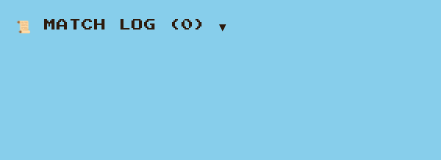
Scenario: MatchHistory Component › displays empty message when expanded with no matches
The width and height of the screenshot is (441, 160).
Click the button "📜 MATCH LOG (0) ▼" at x=121, y=25, box 16,16 -> 227,34
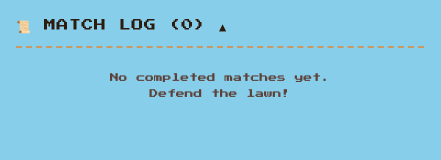
Expected: the text "No completed matches yet.Defend the lawn!" is shown, 110,73 -> 330,98
